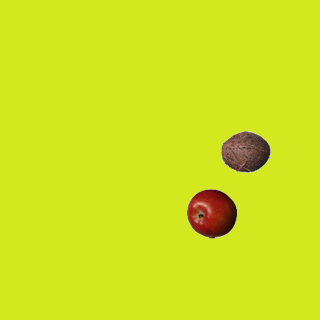Apple Braeburn: (186, 188, 236, 238)
Cocos: (220, 126, 270, 176)
